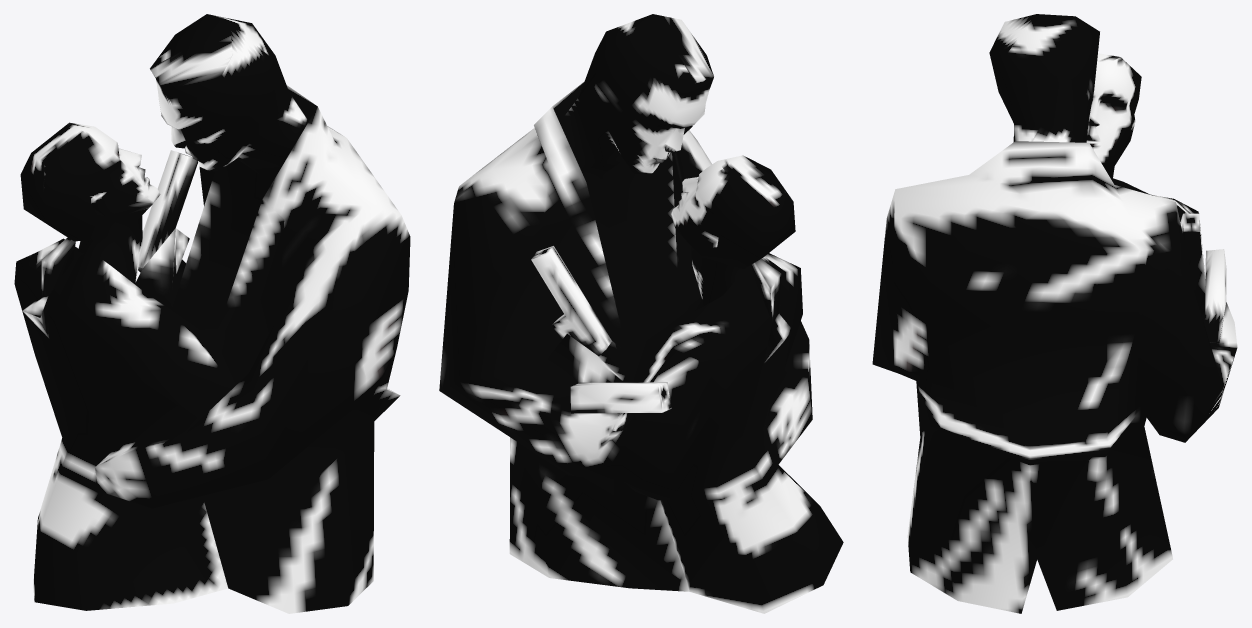
Rendered from ps2_save-icons_max-payne-2.glb.
3 views of the same model, side by side, from view 1: azimuth 30°, elevation 25°; view 2: azimuth 150°, elevation 25°; view 3: azimuth 270°, elevation 25° (orthographic). The views are drawn at different scales.
Parts seen in each view (by area): view 1: list.ico; view 2: list.ico; view 3: list.ico.
Boxes of the visible parts, <box> form: list.ico: <box>14,14,410,613</box>; list.ico: <box>439,14,843,613</box>; list.ico: <box>872,14,1237,613</box>.
Size of the model in its own units: 2.32 by 3.71 by 2.27.
Materials: 1 (1 with a texture image).
